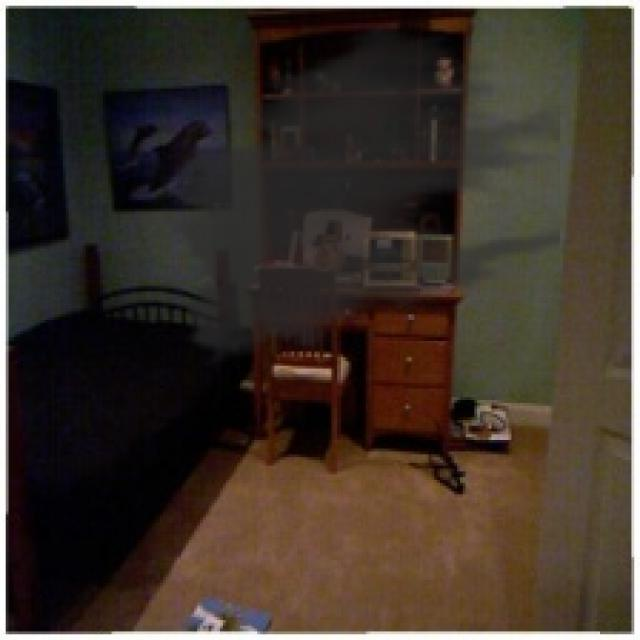Smoke: (148, 14, 560, 374)
